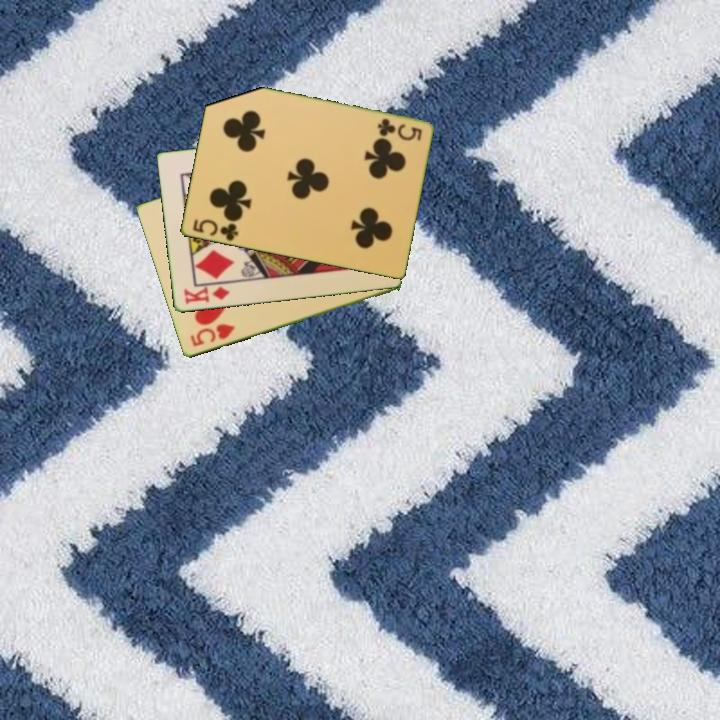5c: (373, 115, 424, 144), (189, 216, 241, 244)
5h: (187, 320, 237, 350)
Kd: (180, 283, 233, 307)
